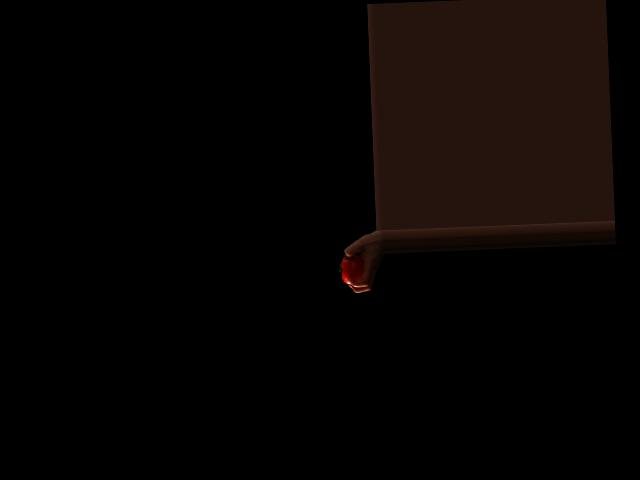tomato: (337, 254, 363, 284)
